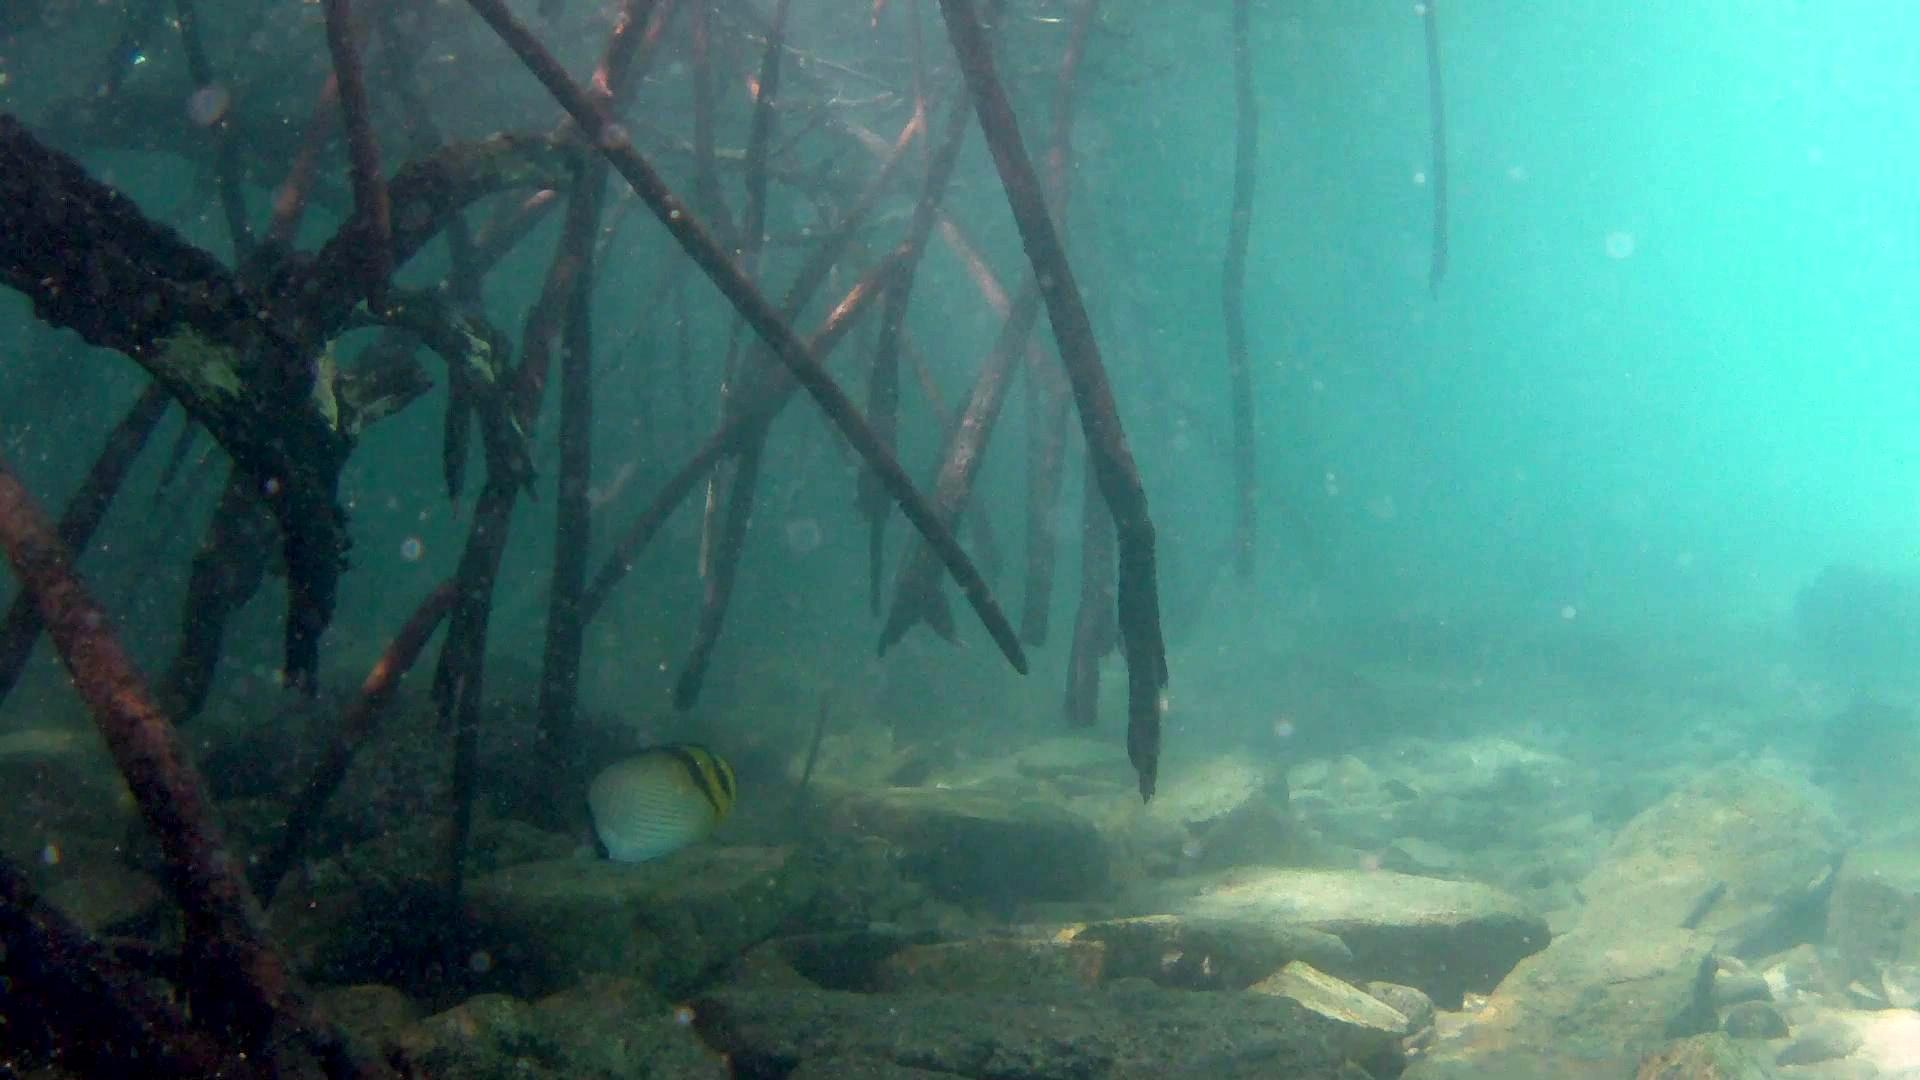chaetodon vagabundus: (572, 741, 740, 864)
